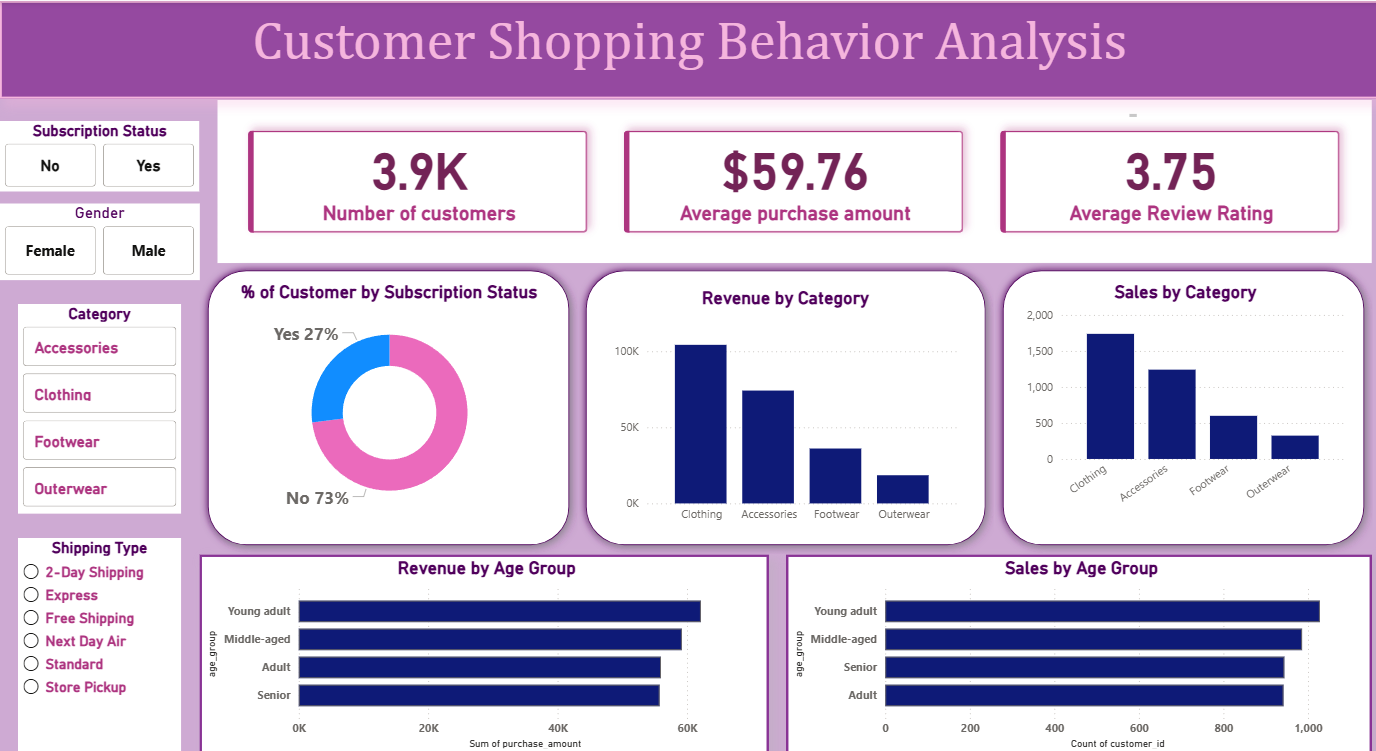

Layout of this report page (visuals, bound fields, positions):
{"tool":"powerbi","page":{"name":"Page 1","canvas":[1500,820],"ordinal":0},"visuals":[{"type":"cardVisual","fields":{"Data":["customer_behavior customer.Number of customers","customer_behavior customer.Average purchase amount","customer_behavior customer.Average Review Rating"]},"box":[226,106,1258,198],"z":0},{"type":"textbox","box":[16.7,116.7,1225,13.3],"z":1000},{"type":"textbox","box":[0,0,1500,106],"z":2000},{"type":"shape","box":[246,284,402,300],"z":3000},{"type":"donutChart","title":"% of Customer by Subscription Status","fields":{"Category":["customer_behavior customer.subscription_status"],"Y":["CountNonNull(customer_behavior customer.customer_id)"]},"box":[276,314,344,242],"z":4000},{"type":"shape","box":[648,284,434,300],"z":5000},{"type":"shape","box":[1082,284,400,300],"z":6000},{"type":"clusteredColumnChart","title":"Revenue by Category","fields":{"Category":["customer_behavior customer.category"],"Y":["Sum(customer_behavior customer.purchase_amount)"]},"box":[678,314,374,254],"z":7000},{"type":"clusteredColumnChart","title":"Sales by Category","fields":{"Category":["customer_behavior customer.category"],"Y":["CountNonNull(customer_behavior customer.customer_id)"]},"box":[1098,314,370,242],"z":8000},{"type":"advancedSlicerVisual","title":"Subscription Status","fields":{"Values":["customer_behavior customer.subscription_status"]},"box":[27.8,131.5,175.9,74.1],"z":9000},{"type":"clusteredBarChart","title":"Revenue by Age Group","fields":{"Category":["customer_behavior customer.age_group"],"Y":["Sum(customer_behavior customer.purchase_amount)"]},"box":[268,602,588,218],"z":10000},{"type":"advancedSlicerVisual","title":"Gender","fields":{"Values":["customer_behavior customer.subscription_status"]},"box":[27.8,222.2,175.9,81.5],"z":11000},{"type":"clusteredBarChart","title":"Sales by Age Group","fields":{"Category":["customer_behavior customer.age_group"],"Y":["CountNonNull(customer_behavior customer.customer_id)"]},"box":[866,602,616,218],"z":12000},{"type":"advancedSlicerVisual","title":"Category","fields":{"Values":["customer_behavior customer.category"]},"box":[48.1,327.8,146.3,229.6],"z":13000},{"type":"listSlicer","title":" Shipping Type","fields":{"Values":["customer_behavior customer.shipping_type"]},"box":[44.4,583.3,150,237],"z":14000},{"type":"shape","box":[0,105.6,246.3,714.8],"z":15000}]}

Visuals, with their boxes in screenshot pixels (x1, y1, x2, y2), scaled from the page's 1500x820 canvas onto the 1376x751 screenshot:
cardVisual - customer_behavior customer.Number of customers x customer_behavior customer.Average purchase amount: [207,97,1361,278]
textbox: [15,107,1139,119]
textbox: [0,0,1375,97]
shape: [226,260,594,535]
"% of Customer by Subscription Status" donutChart: [253,288,569,509]
shape: [594,260,993,535]
shape: [993,260,1359,535]
"Revenue by Category" clusteredColumnChart: [622,288,965,520]
"Sales by Category" clusteredColumnChart: [1007,288,1347,509]
"Subscription Status" advancedSlicerVisual: [26,120,187,188]
"Revenue by Age Group" clusteredBarChart: [246,551,785,750]
"Gender" advancedSlicerVisual: [26,204,187,278]
"Sales by Age Group" clusteredBarChart: [794,551,1359,750]
"Category" advancedSlicerVisual: [44,300,178,510]
" Shipping Type" listSlicer: [41,534,178,750]
shape: [0,97,226,750]
